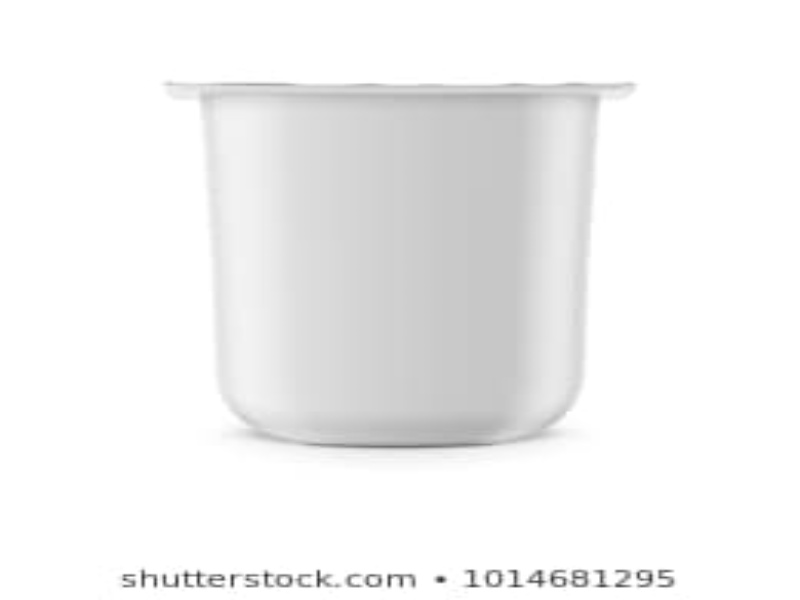yogurt-cup: (162, 75, 623, 449)
